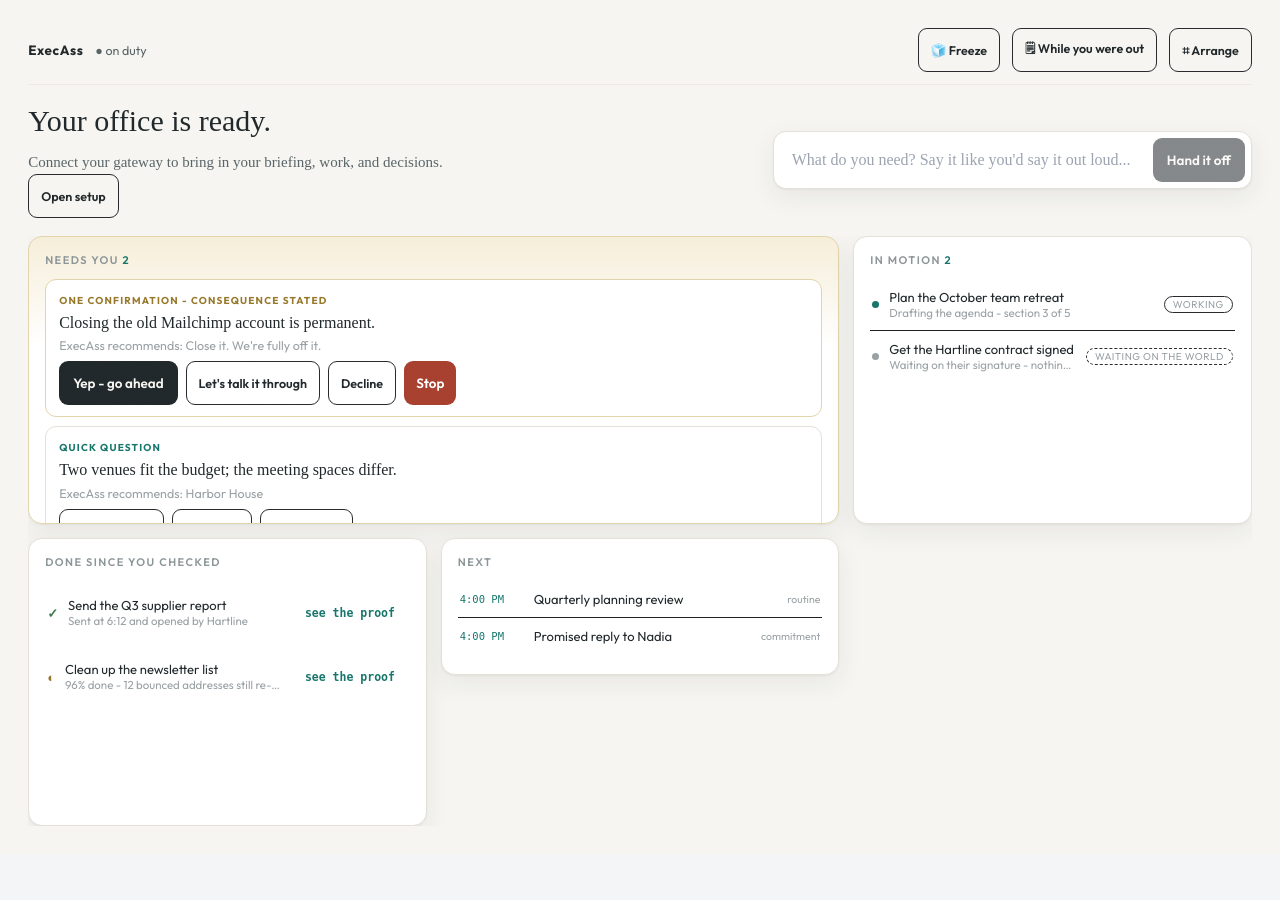
Scenario: Assistant's Desk slide-over › tells the truth when the focused decision leaves the summary
Click the button "Let's talk it through". click: [253, 383]
box: x1=186 y1=361 x2=320 y2=405
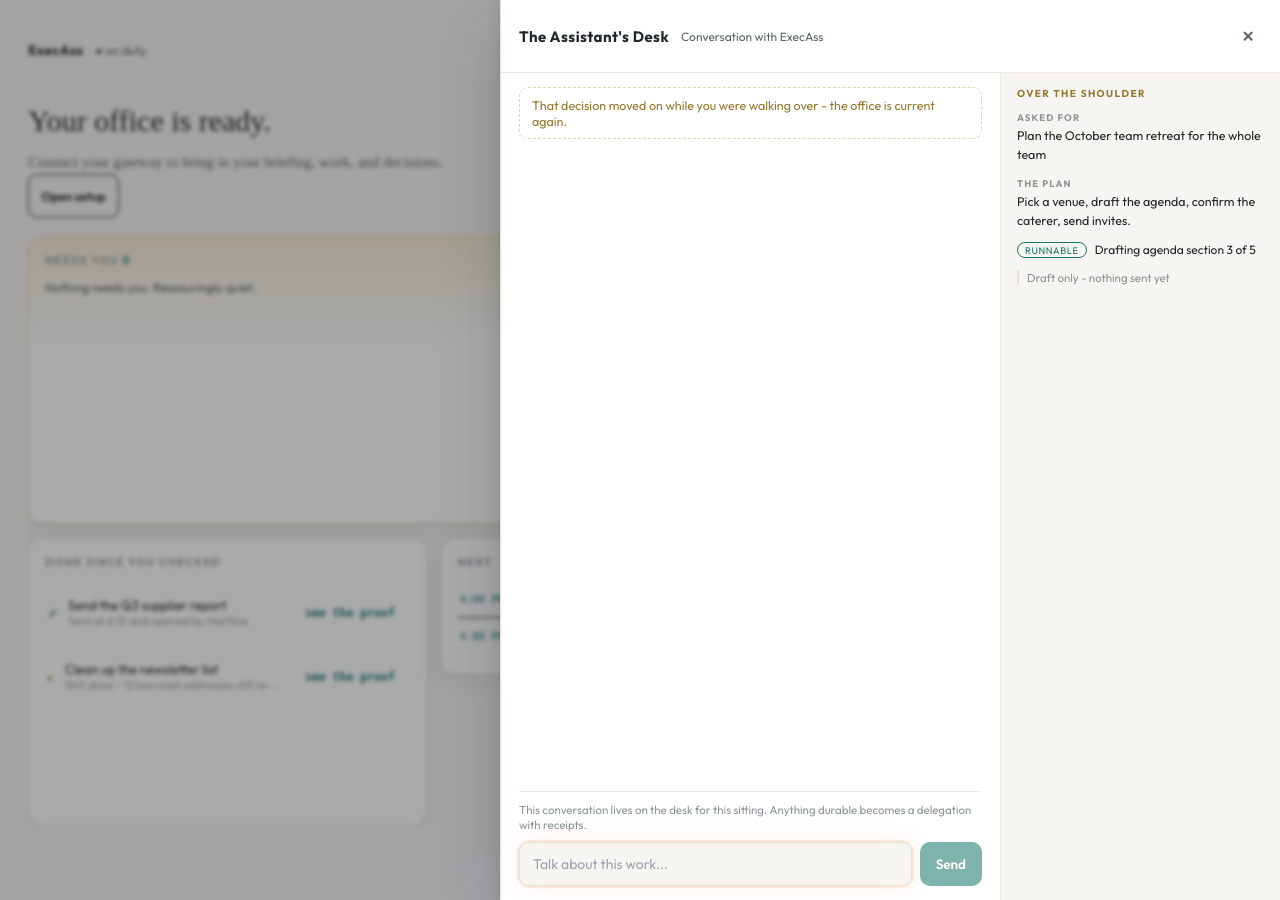
Expected: the dialog with test id "assistant-desk" shows "moved on while you were walking over", x1=532 y1=97 x2=935 y2=129
